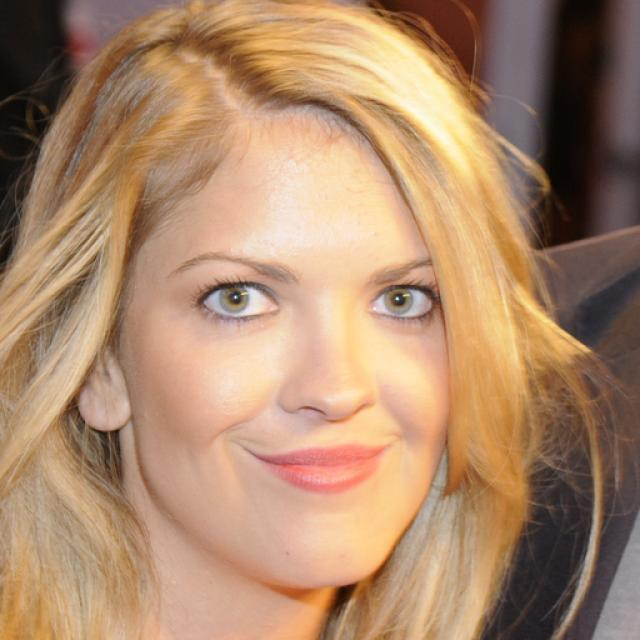content: (121, 112, 458, 588)
